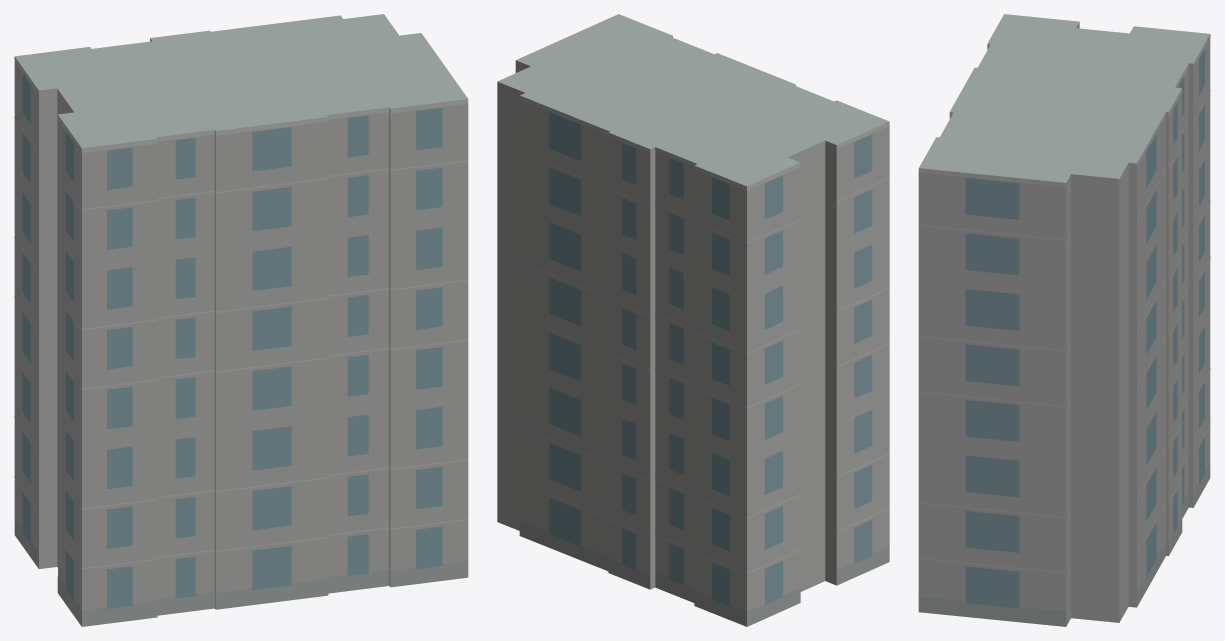
The model's file is survey-upis-32907999.glb.
3 views of the same model, side by side, from view 1: azimuth 30°, elevation 25°; view 2: azimuth 150°, elevation 25°; view 3: azimuth 270°, elevation 25° (orthographic). The views are drawn at different scales.
Parts seen in each view (by area): view 1: survey-upis-32907999.tmp; view 2: survey-upis-32907999.tmp; view 3: survey-upis-32907999.tmp.
Part boxes in pixels (bbox=[...]): survey-upis-32907999.tmp: bbox=[14, 14, 468, 626]; survey-upis-32907999.tmp: bbox=[497, 14, 889, 626]; survey-upis-32907999.tmp: bbox=[918, 14, 1210, 626].
Bounding box in the file's own units: 19.92 × 24.4 × 14.54.
